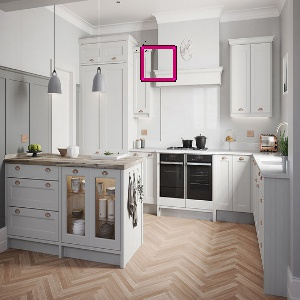square: (137, 41, 181, 84)
